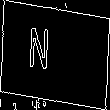N_S: (43, 28, 67, 82)
